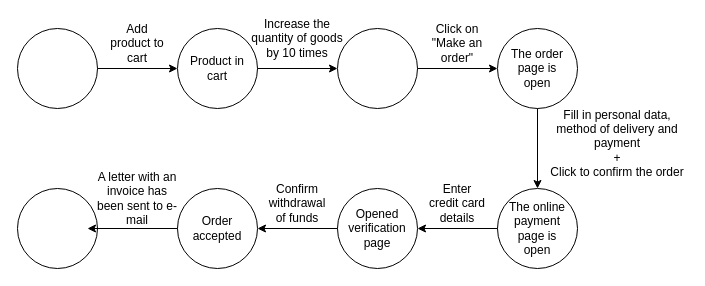
The diagram is 705 pixels wide and 286 high, and some of its shapes have lost their labels. The box of each missing label's shape, as (x1, y1, x2, y2) in pixels:
Added 10% discount: (336, 28, 418, 108)
Beginning: (16, 28, 98, 108)
The End: (16, 188, 98, 268)
